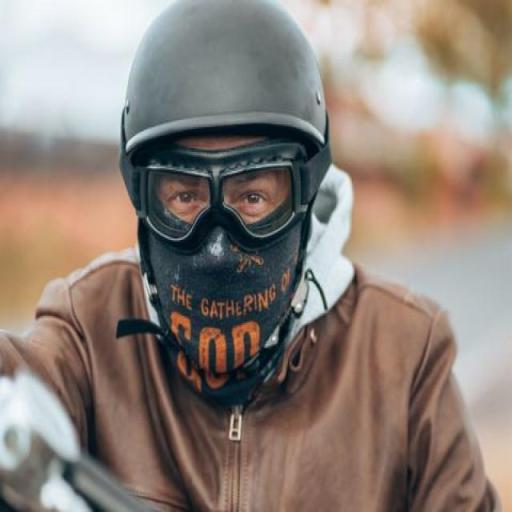Helmet: (120, 0, 331, 215)
